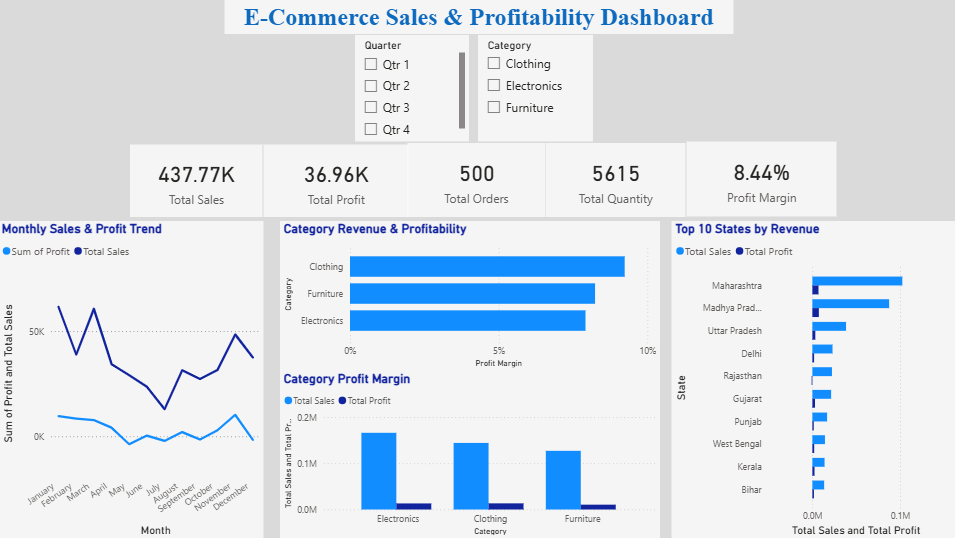

The dashboard page shown, as its layout file describes it:
{"tool":"powerbi","page":{"name":"Executive Overview","canvas":[1280,720],"ordinal":0},"visuals":[{"type":"card","fields":{"Values":["Details.Total Sales"]},"box":[176.7,193.3,176.7,96.7],"z":0},{"type":"card","fields":{"Values":["Details.Total Profit"]},"box":[353.3,193.3,193.3,96.7],"z":1000},{"type":"card","fields":{"Values":["Details.Total Orders"]},"box":[546.7,191.7,183.3,98.3],"z":2000},{"type":"card","fields":{"Values":["Details.Total Quantity"]},"box":[730,191.7,186.7,98.3],"z":3000},{"type":"card","fields":{"Values":["Details.Profit Margin"]},"box":[917,190,200,100],"z":4000},{"type":"textbox","box":[301.7,0,678.3,46.7],"z":5000},{"type":"lineChart","title":"Monthly Sales & Profit Trend","fields":{"Category":["Orders.Order Date.Variation.Date Hierarchy.Month"],"Y":["Sum(Details.Profit)","Details.Total Sales"]},"box":[0,296,354,424],"z":6000},{"type":"clusteredColumnChart","title":"Category Profit Margin","fields":{"Category":["Details.Category"],"Y":["Details.Total Sales","Details.Total Profit"]},"box":[375,496.7,506.7,223.3],"z":7000},{"type":"clusteredBarChart","title":"Category Revenue & Profitability","fields":{"Category":["Details.Category"],"Y":["Details.Profit Margin"]},"box":[375,296.7,506.7,200],"z":8000},{"type":"clusteredBarChart","title":"Top 10 States by Revenue","fields":{"Category":["Orders.State"],"Y":["Details.Total Sales","Details.Total Profit"]},"box":[898,296,382,424],"z":9000},{"type":"slicer","fields":{"Values":["Orders.Order Date.Variation.Date Hierarchy.Quarter"]},"box":[476.7,48.3,151.7,141.7],"z":10000},{"type":"slicer","fields":{"Values":["Details.Category"]},"box":[640,48.3,153.3,141.7],"z":11000}]}

Visuals, with their boxes in screenshot pixels (x1, y1, x2, y2), scaled from the page's 1280x720 canvas onto the 955x538 screenshot:
card - Details.Total Sales: [left=132, top=144, right=264, bottom=217]
card - Details.Total Profit: [left=264, top=144, right=408, bottom=217]
card - Details.Total Orders: [left=408, top=143, right=545, bottom=217]
card - Details.Total Quantity: [left=545, top=143, right=684, bottom=217]
card - Details.Profit Margin: [left=684, top=142, right=833, bottom=217]
textbox: [left=225, top=0, right=731, bottom=35]
"Monthly Sales & Profit Trend" lineChart: [left=0, top=221, right=264, bottom=537]
"Category Profit Margin" clusteredColumnChart: [left=280, top=371, right=658, bottom=537]
"Category Revenue & Profitability" clusteredBarChart: [left=280, top=222, right=658, bottom=371]
"Top 10 States by Revenue" clusteredBarChart: [left=670, top=221, right=954, bottom=537]
slicer - Orders.Order Date.Variation.Date Hierarchy.Quarter: [left=356, top=36, right=469, bottom=142]
slicer - Details.Category: [left=478, top=36, right=592, bottom=142]
